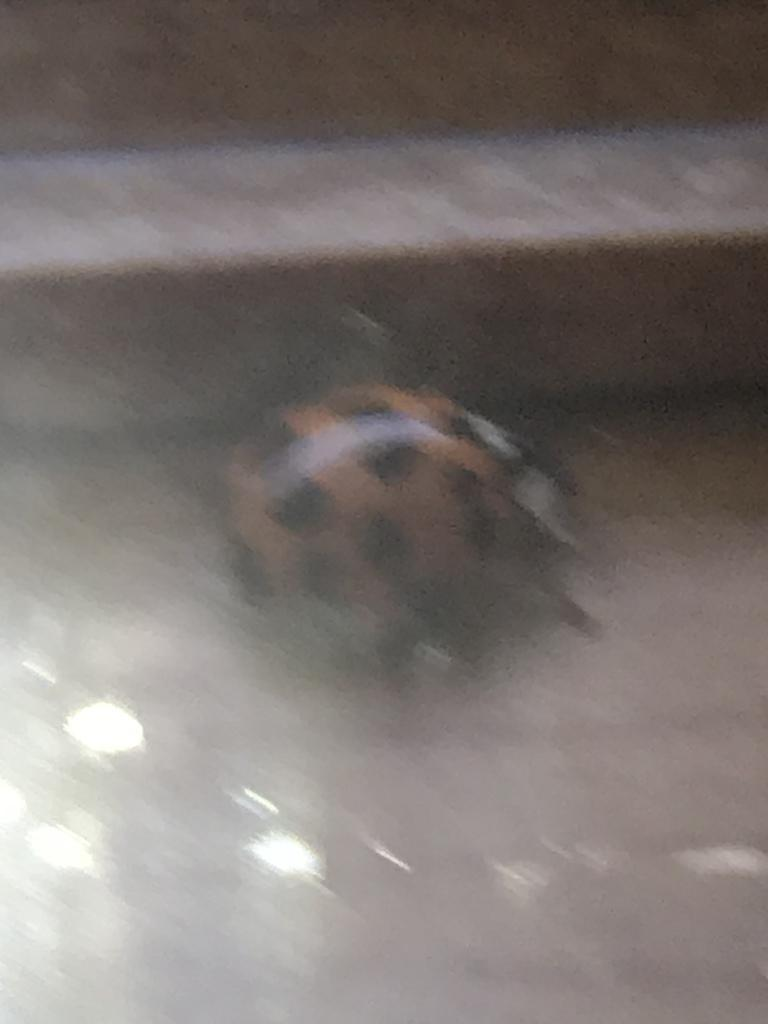ladybug: (216, 379, 604, 694)
